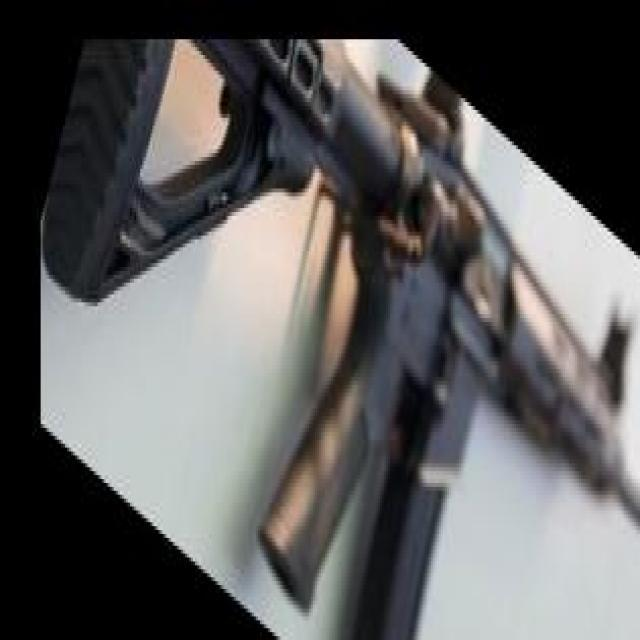weapon: (42, 40, 639, 640)
